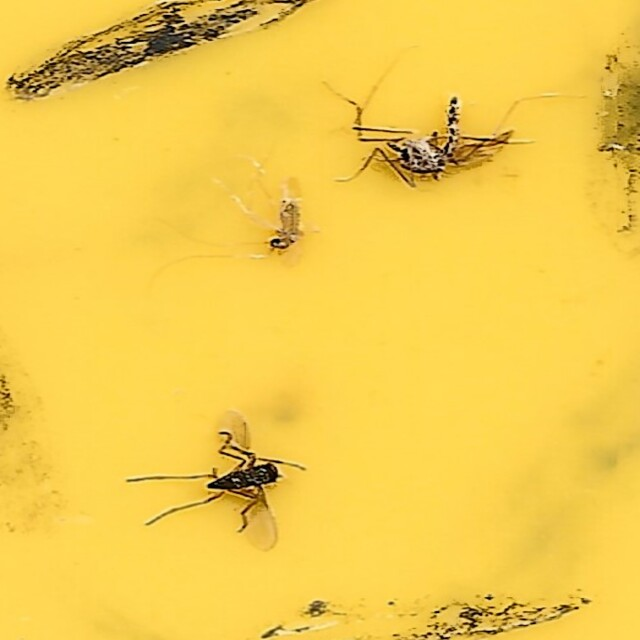Nematocera: (122, 412, 286, 547), (372, 93, 518, 185), (250, 186, 308, 263)
